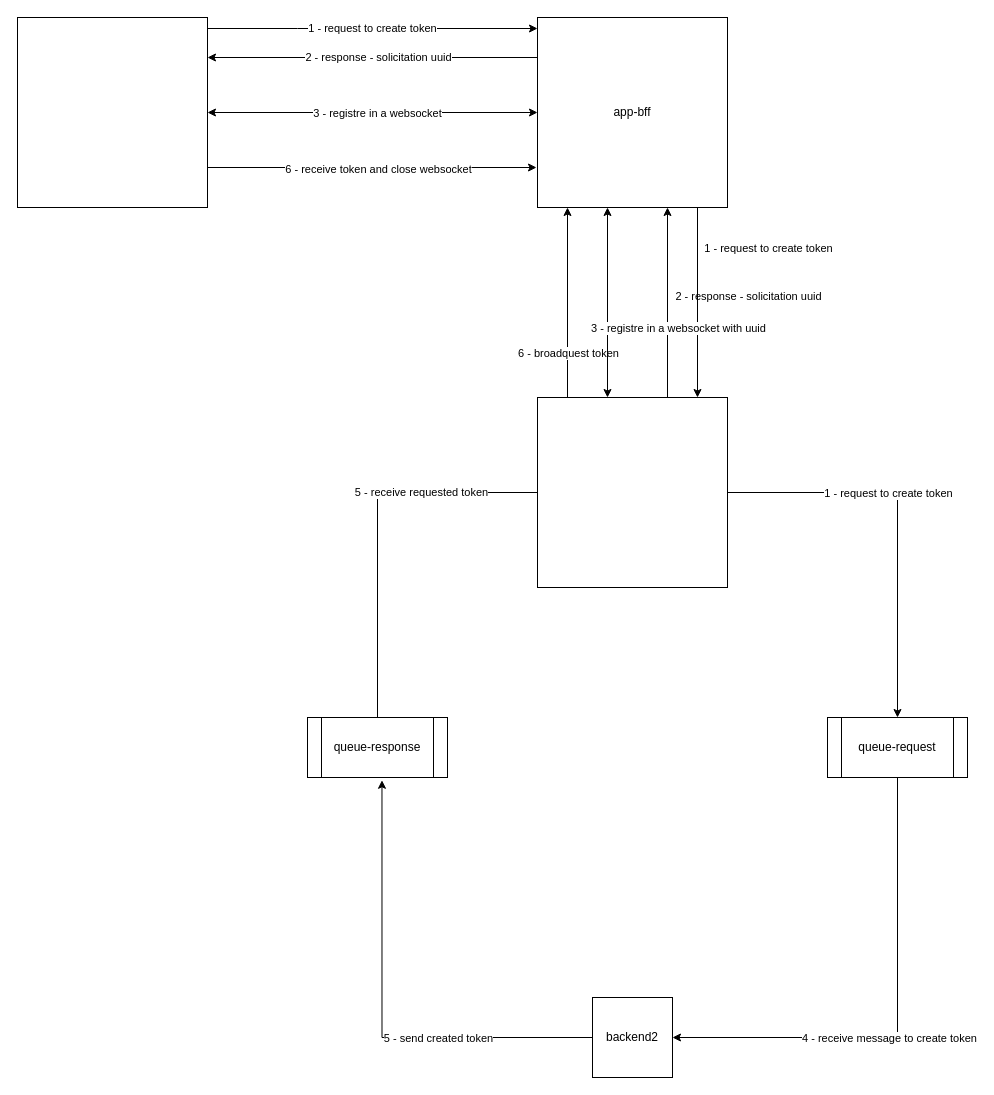
Image size: 994x1095. Some labels were removed from this diagram. The centre of each missing label's shape, as x and y in pixels:
"backend1" goes at pixel 632 492.
"Browser" goes at pixel 112 112.
